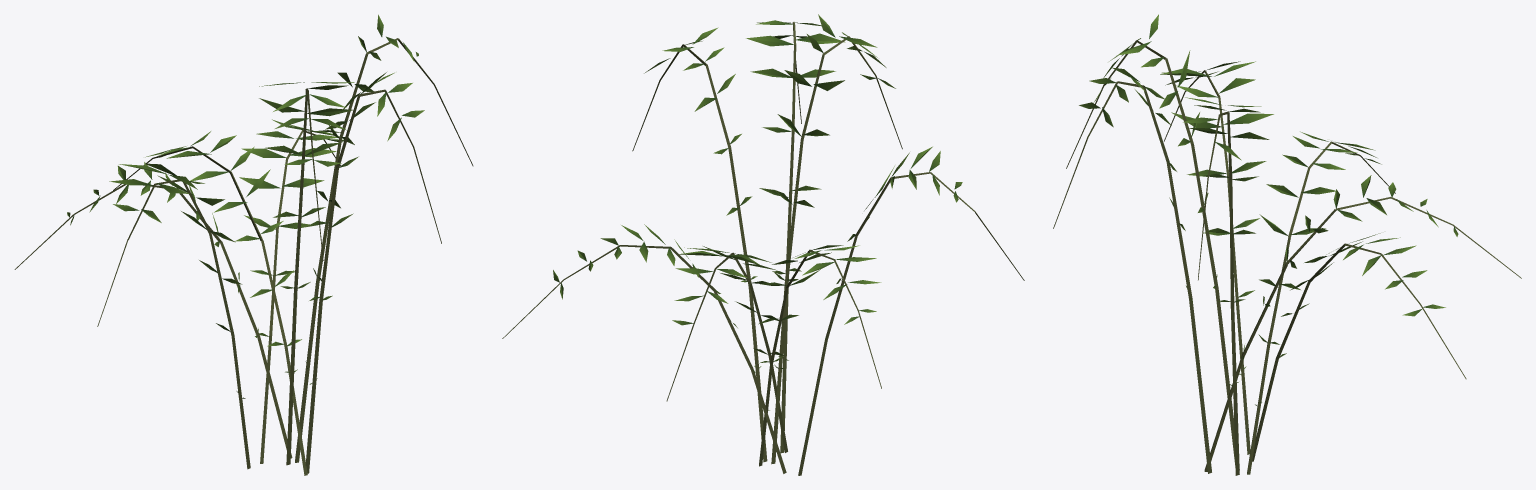
File: forest_fern_001_a_LOD3.gltf
3 renders of one model, left to right at view 1: azimuth 30°, elevation 25°; view 2: azimuth 150°, elevation 25°; view 3: azimuth 270°, elevation 25°, orthographic. The views are drawn at different scales.
Visible parts, largest first — view 1: forest_fern_001_a_LOD3; view 2: forest_fern_001_a_LOD3; view 3: forest_fern_001_a_LOD3.
Boxes of the visible parts, x1,y1,x2,y2 form: forest_fern_001_a_LOD3: (14,14,473,475); forest_fern_001_a_LOD3: (502,14,1024,475); forest_fern_001_a_LOD3: (1053,14,1521,475).
Bounding box in the file's own units: 2 × 2.06 × 2.06.
Materials: 1 (1 with a texture image).
